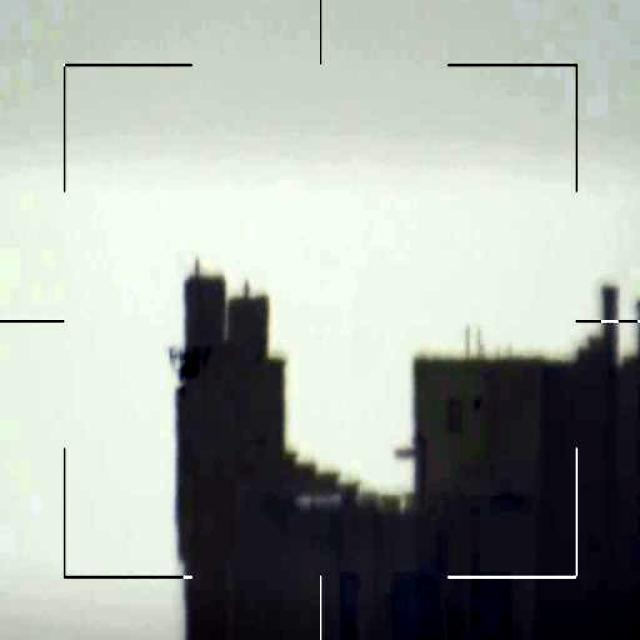bird: (161, 338, 215, 424)
